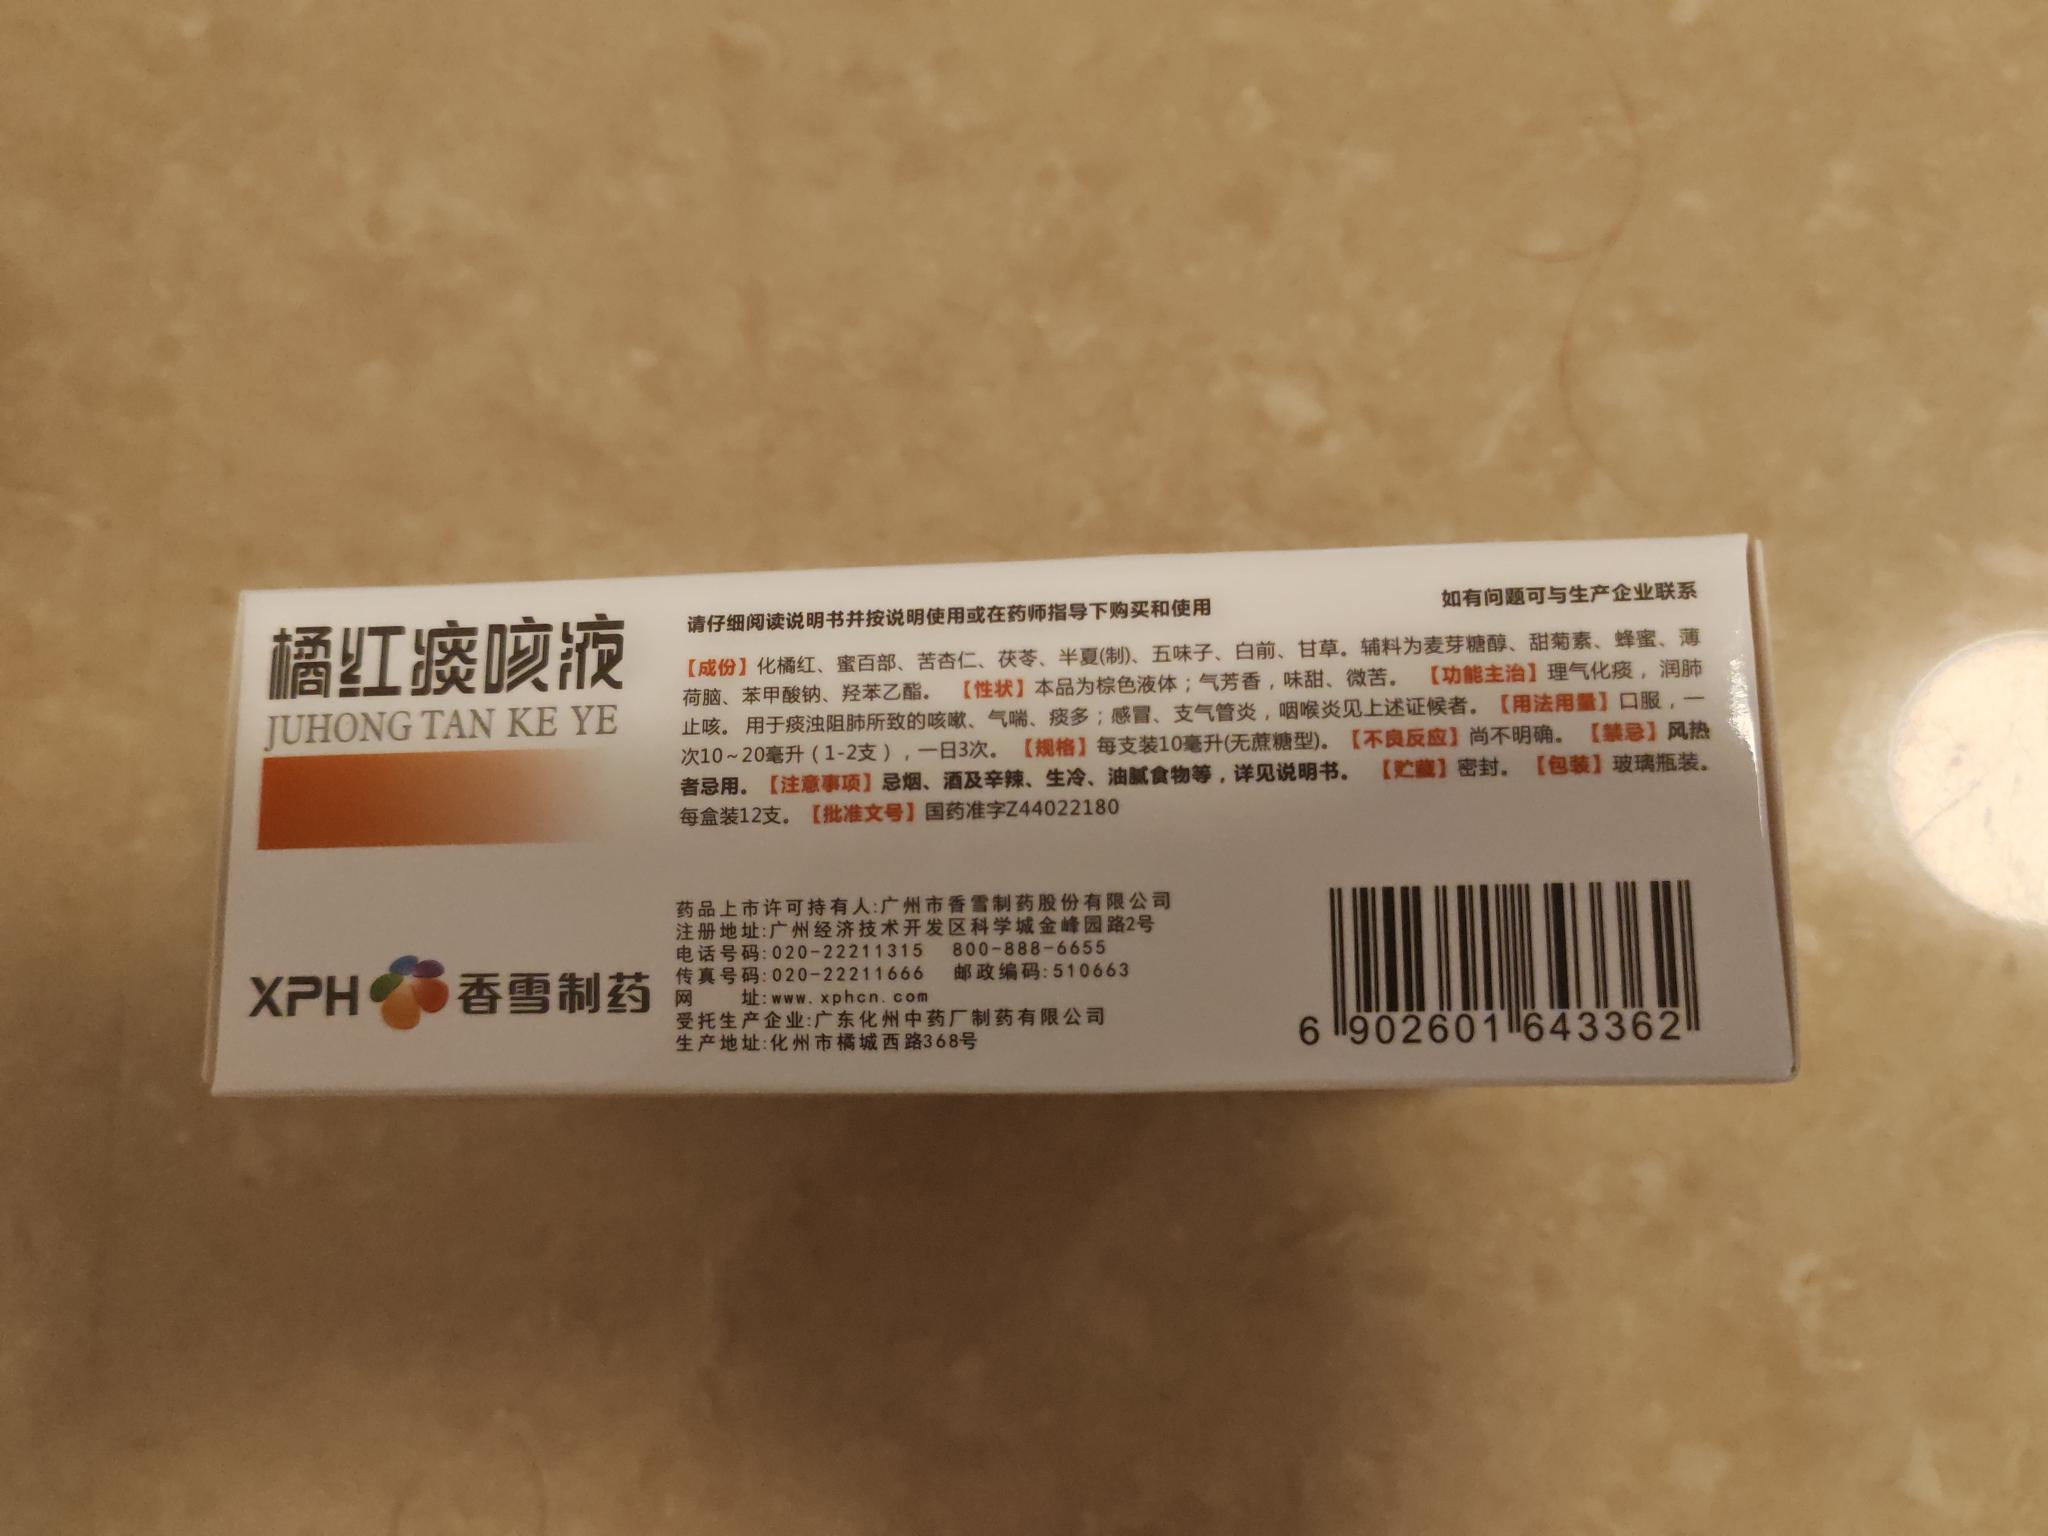Medicine1: (173, 505, 1825, 1117)
